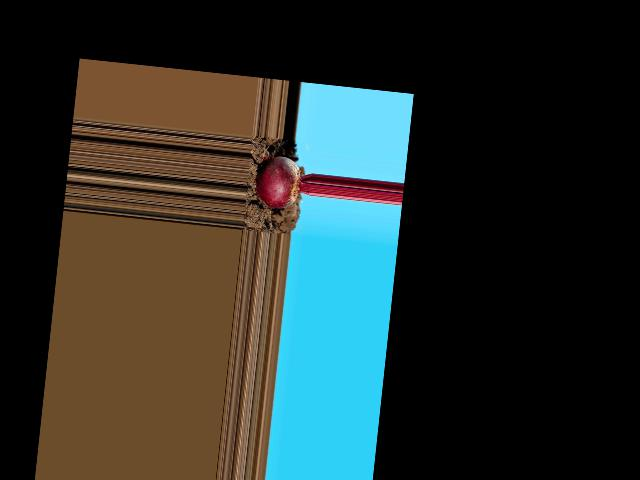beet: (253, 153, 313, 211)
